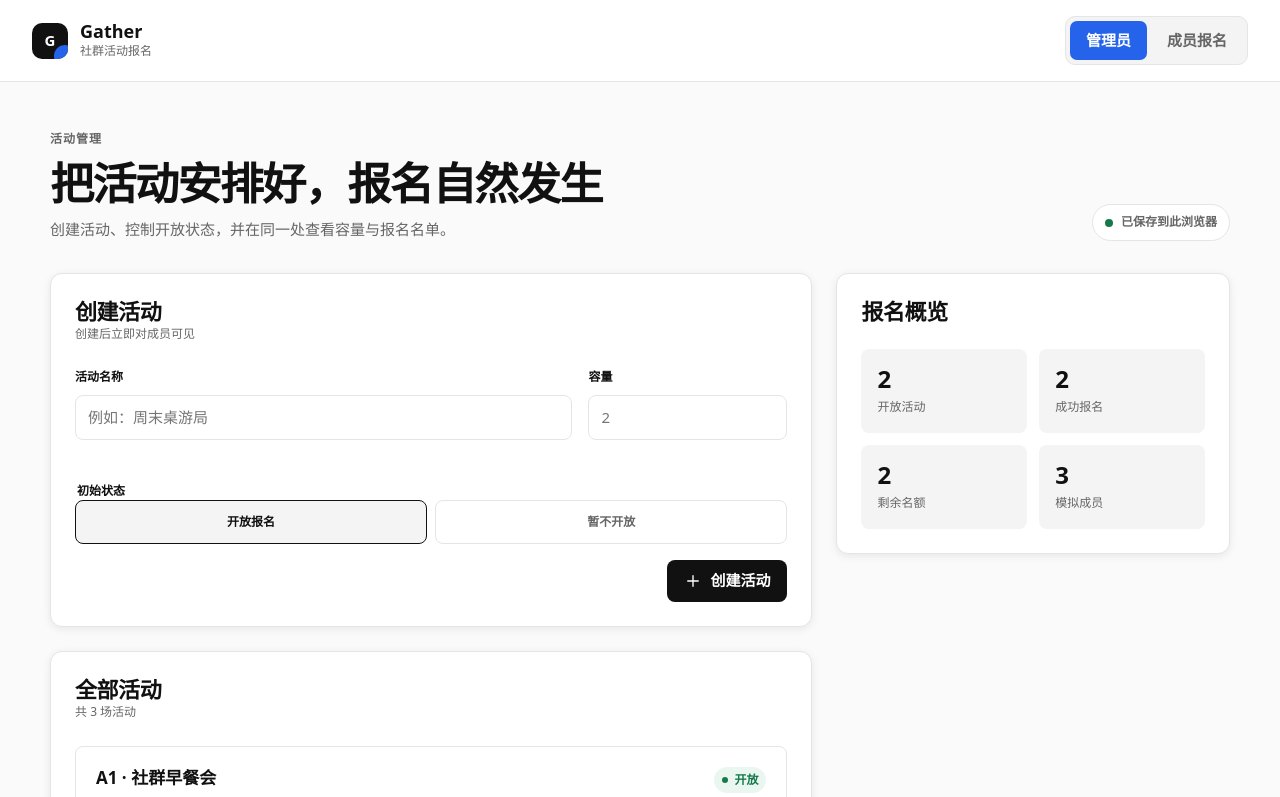
it: 成员关键交互 › 未选择身份时显示提示并拒绝提交
Click the button "成员报名". click: point(1197, 41)
box: left=1151, top=21, right=1243, bottom=60
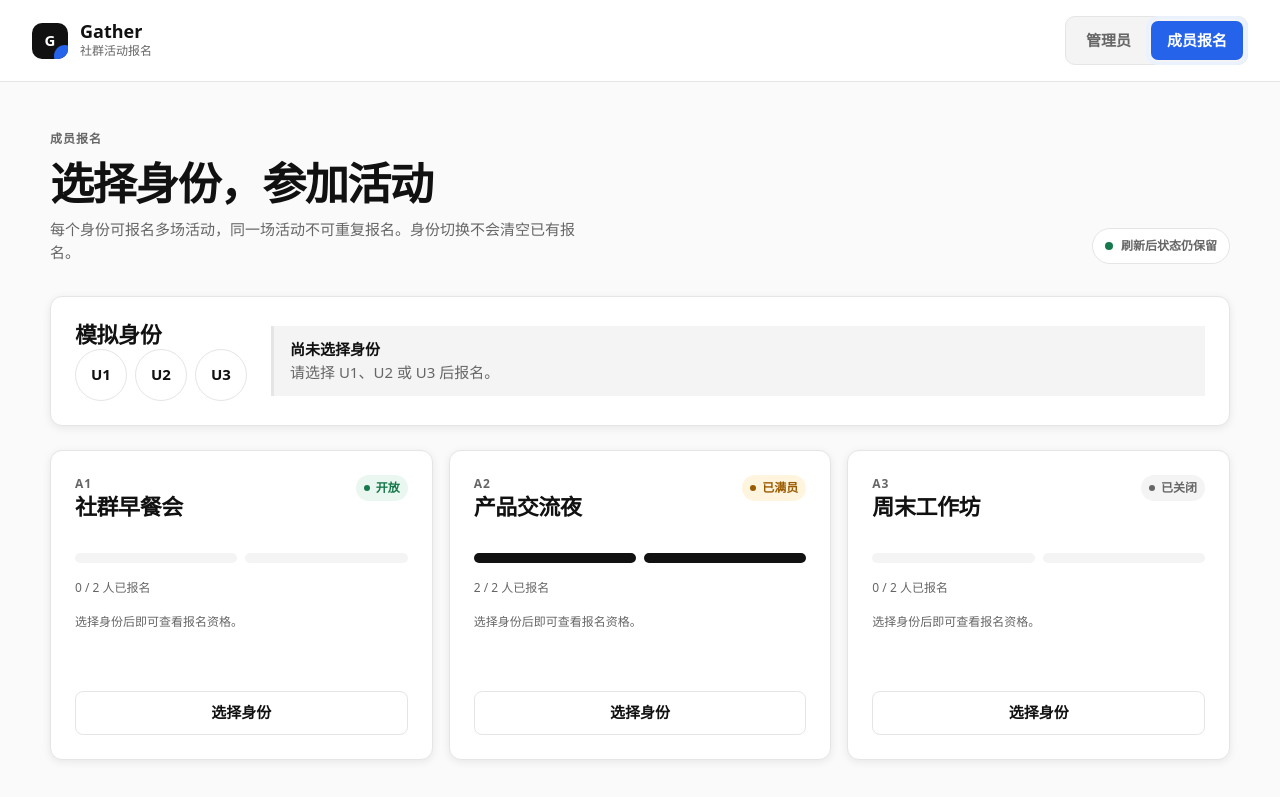
Check: the text "尚未选择身份" is shown, box left=290, top=339, right=380, bottom=359
Click the button "选择身份" below "社群早餐会". click: point(241, 713)
box: left=75, top=691, right=408, bottom=735
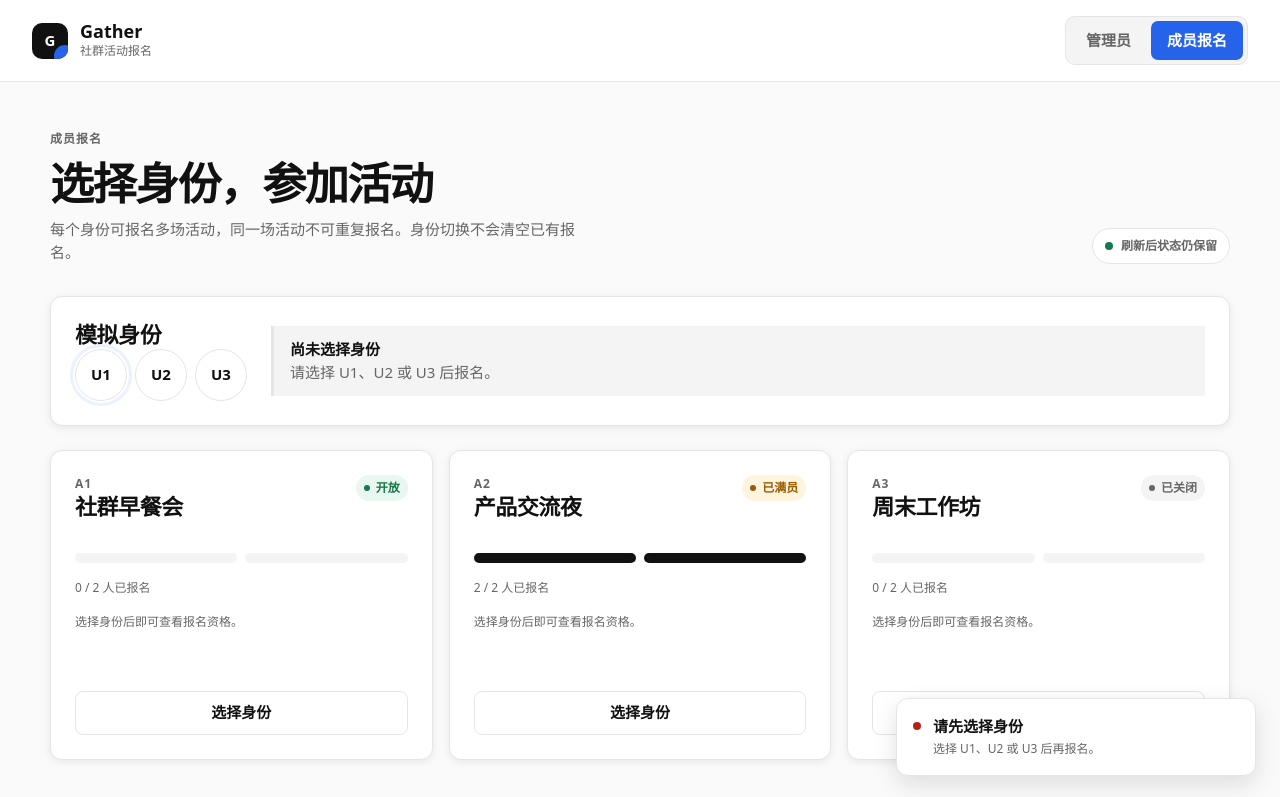
Check: the text "请先选择身份" is shown, box left=933, top=716, right=1023, bottom=736
